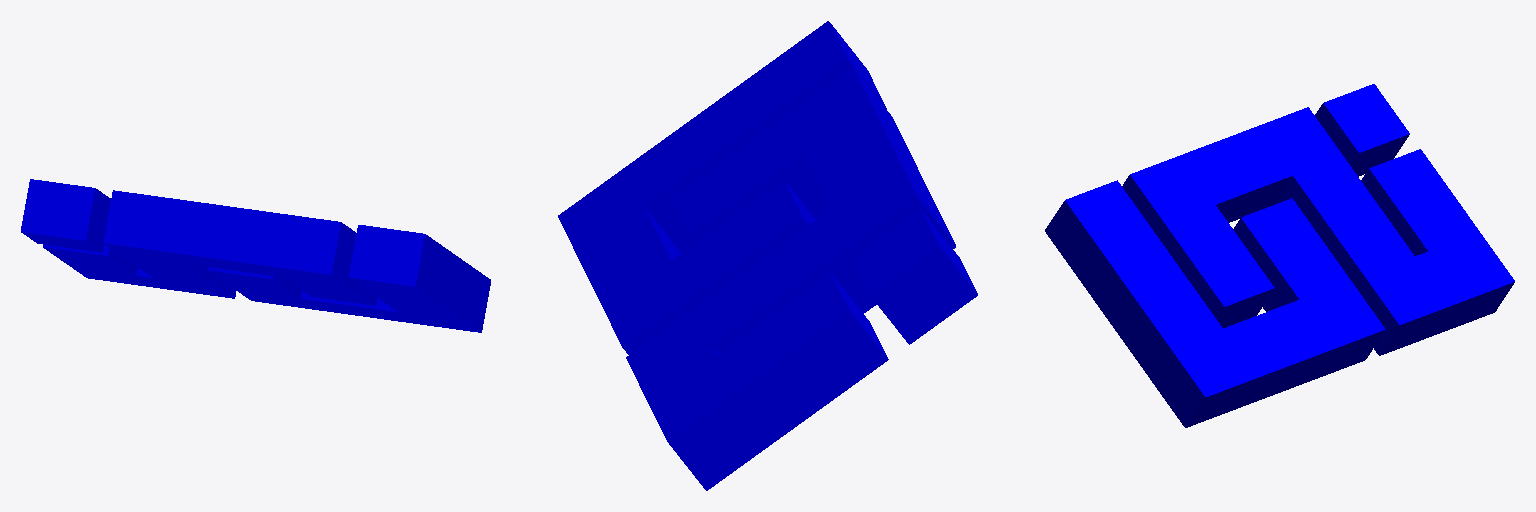
The robot description file, URDF, robot "origins":

<robot name="origins">

  <link name="base_link">

  
    <visual>
      <origin rpy="0.6 0 2.3" xyz="0 0 0"/>
      <geometry>
        <mesh filename="package://rvizglabre/modelos/uni2.stl"/>
      </geometry>
      <material name="">
        <color rgba=" 0 0 250 0.7"/>
      </material>
    </visual>
    <collision>
      <origin rpy="0 0 0" xyz="0 0 0"/>
      <geometry>
        <mesh filename="package://rvizglabre/modelos/uni2.stl"/>
      </geometry>
      <material name="">
        <color rgba="1 1 0 1"/>
      </material>
    </collision>
  </link>


</robot>

--- Facts derived from the render (not from the file) ---
The picture shows the robot from 3 angles, left to right: view 1: azimuth 30°, elevation 25°; view 2: azimuth 150°, elevation 25°; view 3: azimuth 270°, elevation 25°; orthographic projection.
Robot: origins — 1 links, 0 joints (none); root link base_link; default pose: every joint at zero.
Links seen in each view (by area): view 1: base_link; view 2: base_link; view 3: base_link.
Boxes of the visible links, x1,y1,x2,y2 form: base_link: (21, 179, 490, 332); base_link: (558, 21, 977, 490); base_link: (1045, 84, 1514, 427).
Size in the robot's own frame: 6.74 by 6.96 by 2.81 metres.
Meshes: 1 distinct files referenced, 1 mesh visuals loaded (1 binary STL).